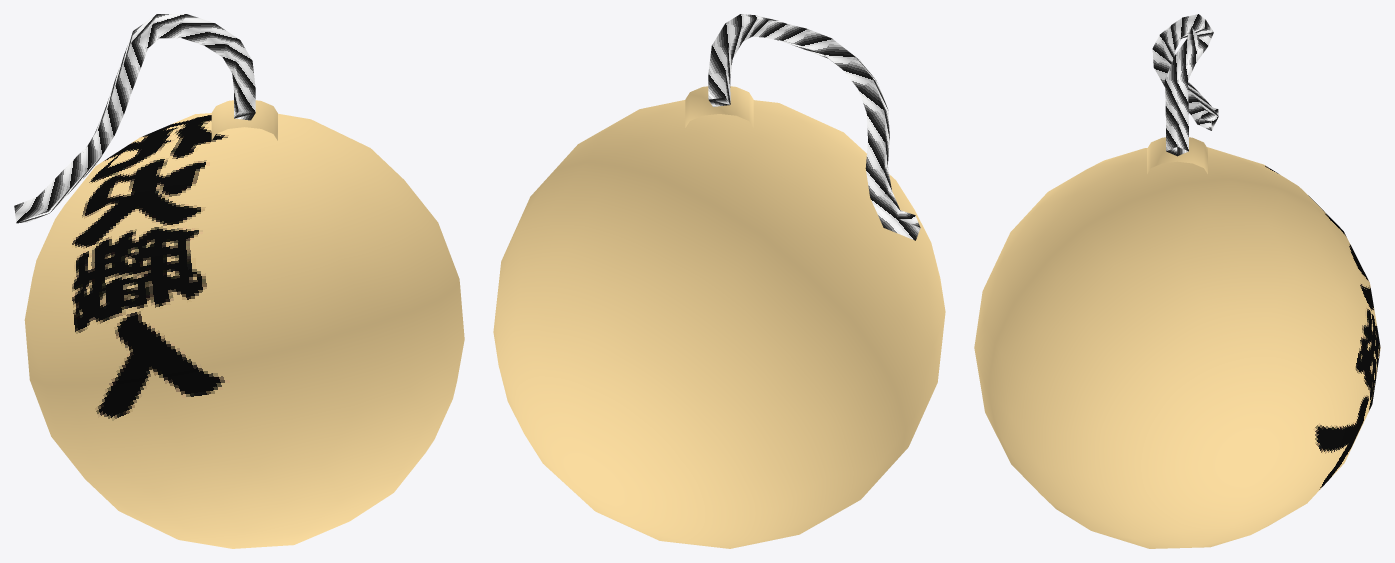
Rendered from ps2_save-icons_hanabishokuninninarou2.glb.
3 renders of one model, left to right at view 1: azimuth 30°, elevation 25°; view 2: azimuth 150°, elevation 25°; view 3: azimuth 270°, elevation 25°, orthographic. The views are drawn at different scales.
Visible parts, largest first — view 1: icon1.ico; view 2: icon1.ico; view 3: icon1.ico.
Boxes of the visible parts, left/top/right/bottom form: icon1.ico: left=14, top=14, right=464, bottom=548; icon1.ico: left=493, top=14, right=945, bottom=548; icon1.ico: left=974, top=14, right=1380, bottom=548.
Size of the model in its own units: 2.62 by 3.26 by 2.5.
Materials: 1 (1 with a texture image).
